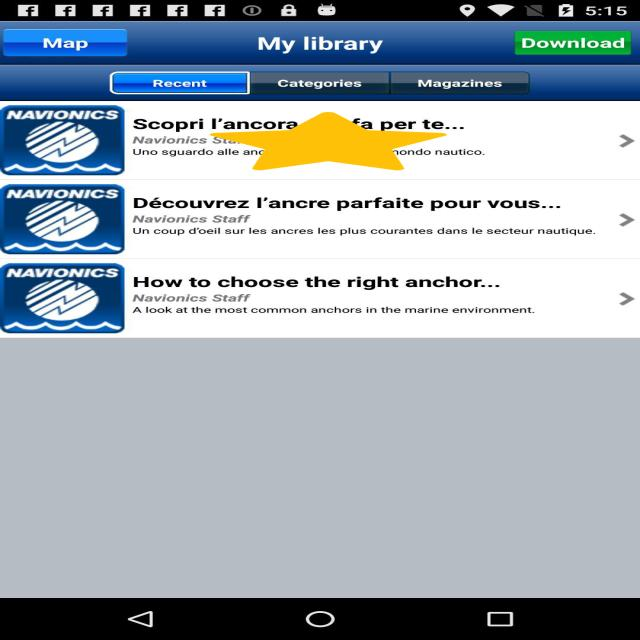forced continuity: (210, 112, 447, 170)
